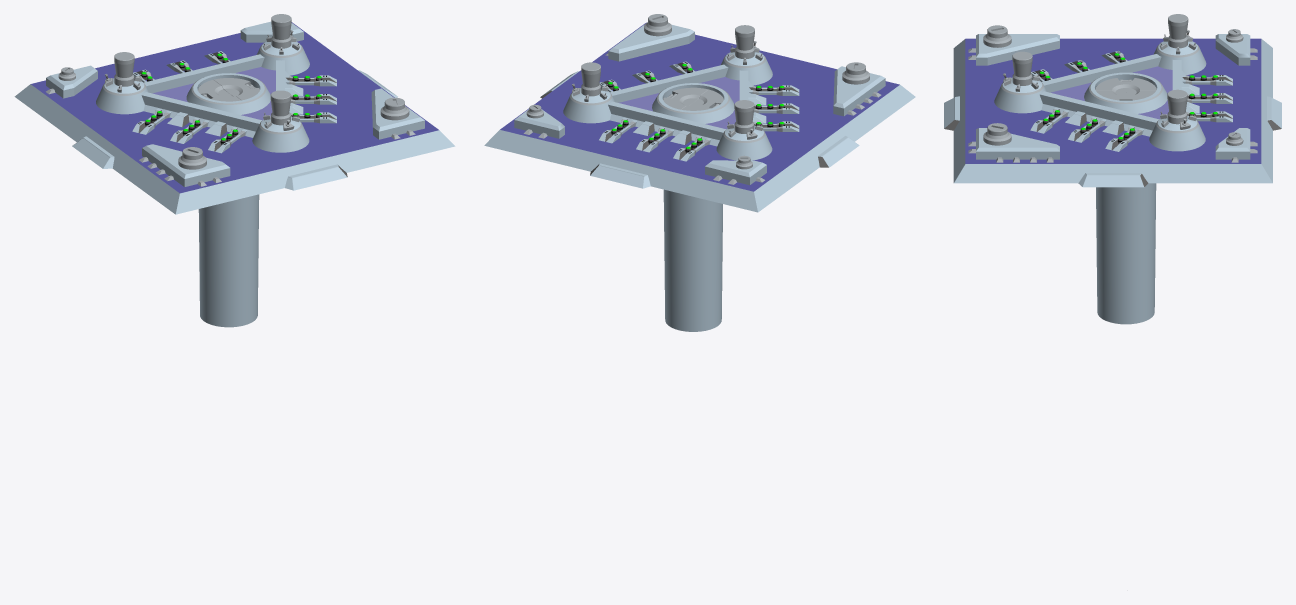
File: Maaker9.fbx
The picture shows the model from 3 angles, left to right: view 1: azimuth 30°, elevation 25°; view 2: azimuth 150°, elevation 25°; view 3: azimuth 270°, elevation 25°; orthographic projection. The views are drawn at different scales.
Parts seen in each view (by area): view 1: foundation_12, hole_base, boots, base, _pillar3, _pillar1, _pillar2, deets, door; view 2: foundation_12, hole_base, boots, base, _pillar1, _pillar2, deets, _pillar3, door; view 3: foundation_12, hole_base, boots, base, _pillar2, deets, _pillar3, _pillar1, door (×2), railstock6, railstock3.
Part boxes in pixels (x1,y1,x2,y2): foundation_12: (14,22,455,214); hole_base: (186,73,270,327); boots: (46,21,424,190); base: (141,54,289,137); _pillar3: (252,90,309,152); _pillar1: (96,52,148,114); _pillar2: (256,14,309,75); deets: (46,67,415,186); door: (214,78,259,100); foundation_12: (484,22,915,212); hole_base: (652,83,734,331); boots: (514,22,885,188); base: (608,64,752,146); _pillar1: (716,100,772,160); _pillar2: (563,62,614,123); deets: (523,14,881,184); _pillar3: (721,25,772,85); door: (663,87,708,109); foundation_12: (953,38,1272,183); hole_base: (1084,72,1167,324); boots: (944,34,1281,187); base: (1039,54,1185,136); _pillar2: (1149,89,1205,151); deets: (968,25,1257,162); _pillar3: (994,51,1046,113); _pillar1: (1153,14,1206,74); door (×2): (1095,78,1156,100); railstock6: (1182,75,1232,85); railstock3: (1105,126,1144,151).
Bounding box in the file's own units: 517 × 897 × 517.
